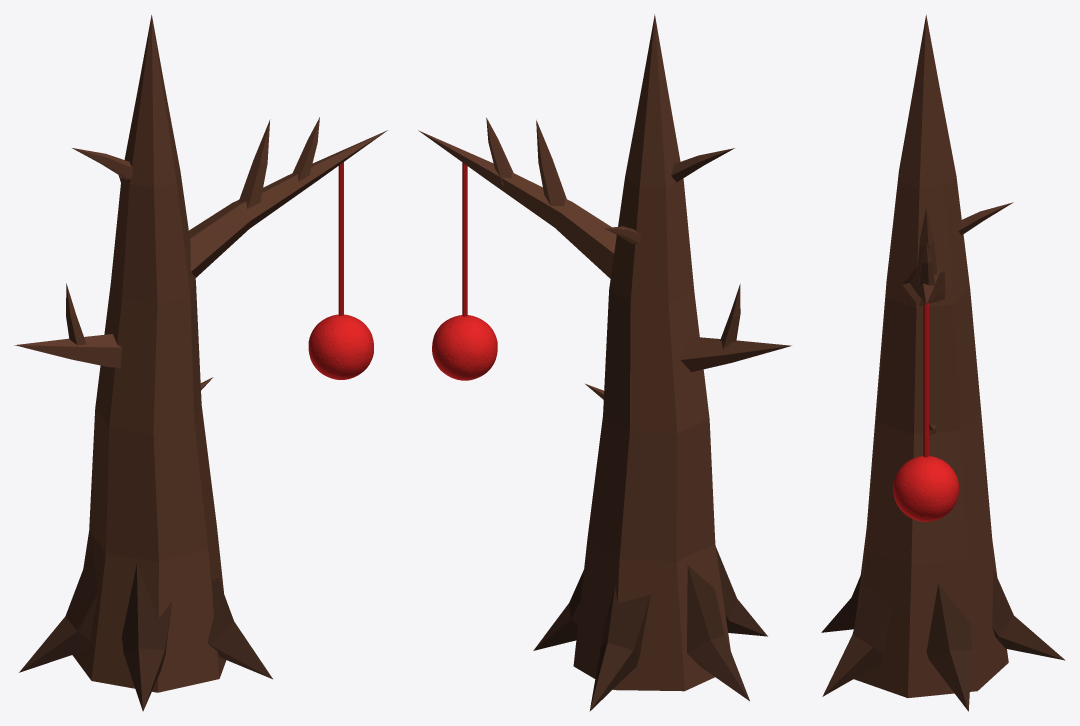
File: zc_dead_tree.glb
3 views of the same model, side by side, from view 1: azimuth 30°, elevation 25°; view 2: azimuth 150°, elevation 25°; view 3: azimuth 270°, elevation 25° (orthographic).
Visible parts, largest first — view 1: zc_dead_tree, yarn; view 2: zc_dead_tree, yarn; view 3: zc_dead_tree, yarn.
Boxes of the visible parts, box(x1,y1,x2,y2) form: zc_dead_tree: box(14, 15, 387, 711); yarn: box(308, 162, 373, 379); zc_dead_tree: box(418, 14, 791, 711); yarn: box(432, 162, 497, 380); zc_dead_tree: box(821, 14, 1065, 711); yarn: box(893, 302, 959, 521).
Size of the model in its own units: 1.58 by 2.61 by 0.8894.
Materials: 1 (1 with a texture image).
